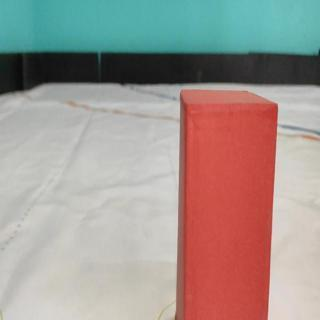redbox: (183, 91, 268, 320)
